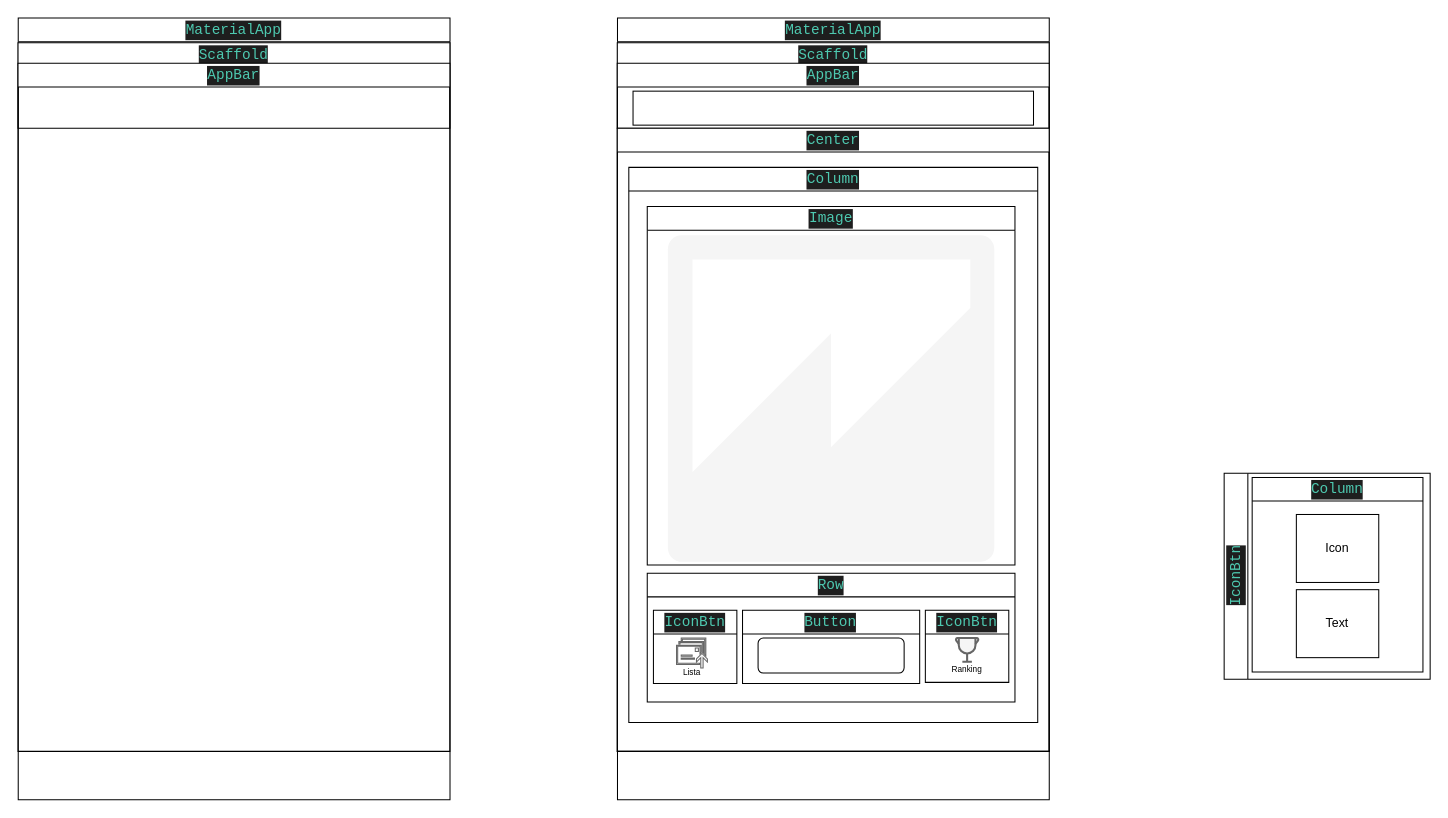
Image size: 1448x818. Some labels were removed from this diagram. Each missing label, with the centre of its shape:
"App Perguntas Educacionais" belongs at point 833,107.
"Iniciar" belongs at point 830,655.
